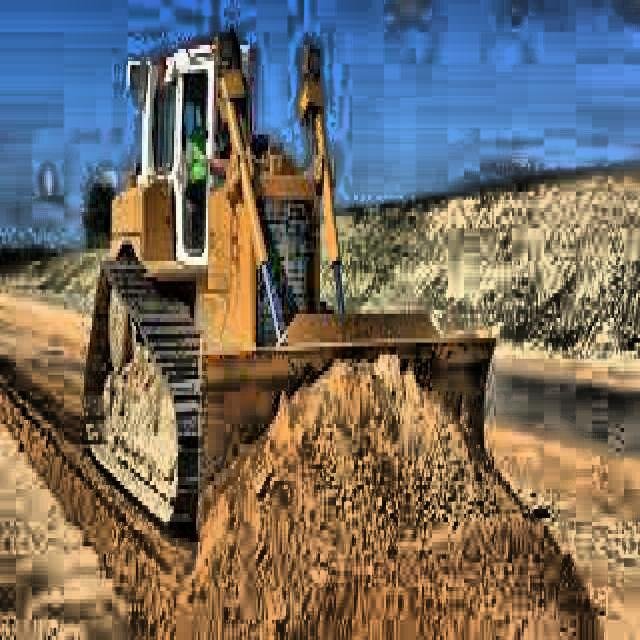bull_dozer/loader/grader: (86, 21, 497, 544)
person: (186, 109, 224, 250)
